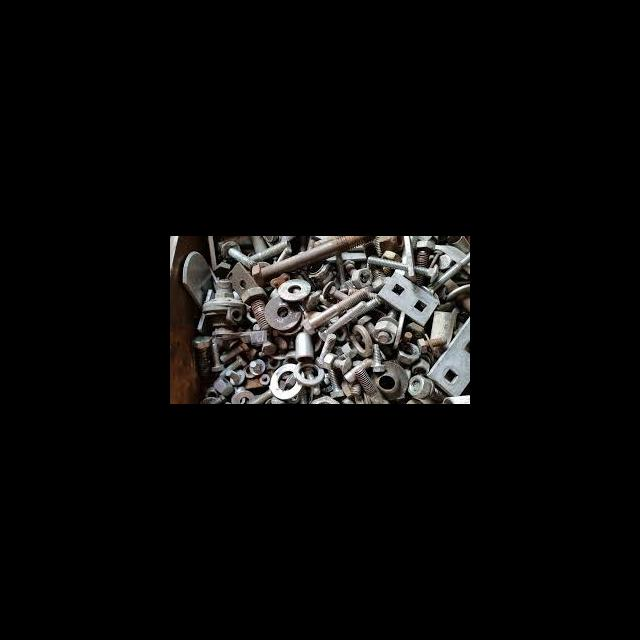metal: (244, 236, 389, 282), (296, 288, 377, 339), (375, 267, 440, 325), (196, 272, 253, 338), (316, 298, 373, 351), (364, 249, 444, 282), (261, 294, 308, 332), (237, 281, 271, 328), (266, 362, 308, 398), (218, 237, 256, 274), (190, 334, 222, 375), (403, 371, 446, 400), (349, 365, 383, 401), (317, 279, 358, 308), (345, 322, 376, 359), (271, 273, 311, 301), (411, 329, 450, 357), (391, 339, 428, 368), (289, 329, 316, 363), (291, 358, 325, 384), (206, 339, 229, 373), (207, 371, 235, 397), (324, 366, 345, 399), (349, 266, 378, 287)
